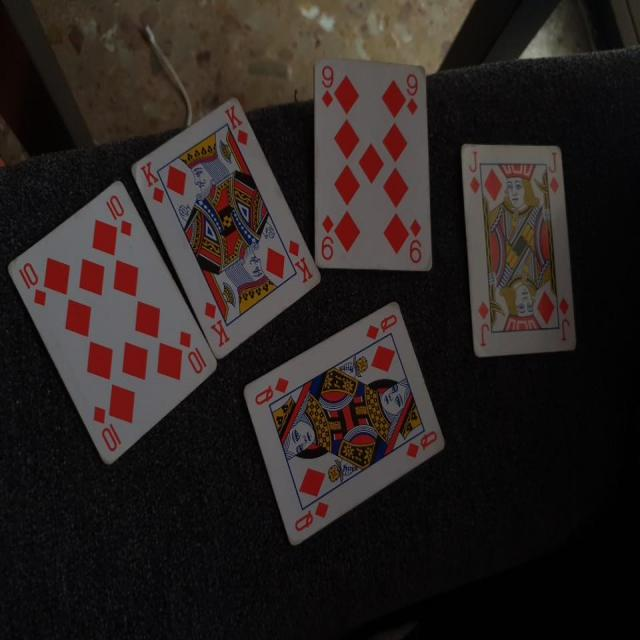10 Diamonds: (6, 178, 216, 466)
9 Diamonds: (311, 55, 434, 272)
J Diamonds: (458, 137, 580, 358)
K Diamonds: (130, 94, 323, 362)
Q Diamonds: (241, 300, 446, 546)
